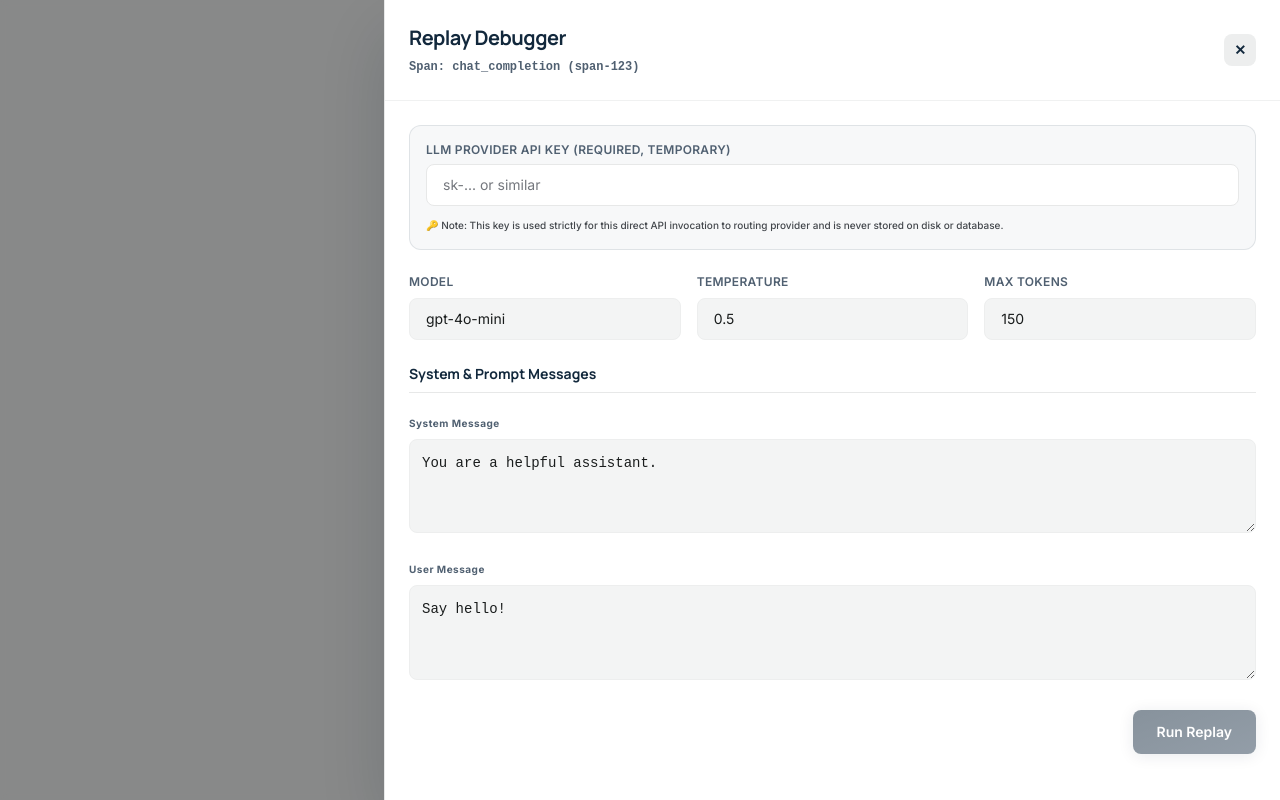
Test: ReplayPanel Component › renders the diff view with both original and replayed outputs on successful replay
Put in API key
In the password field with test id "provider-key-input": (832, 185) [426,164,1239,206], type "test-key-123"
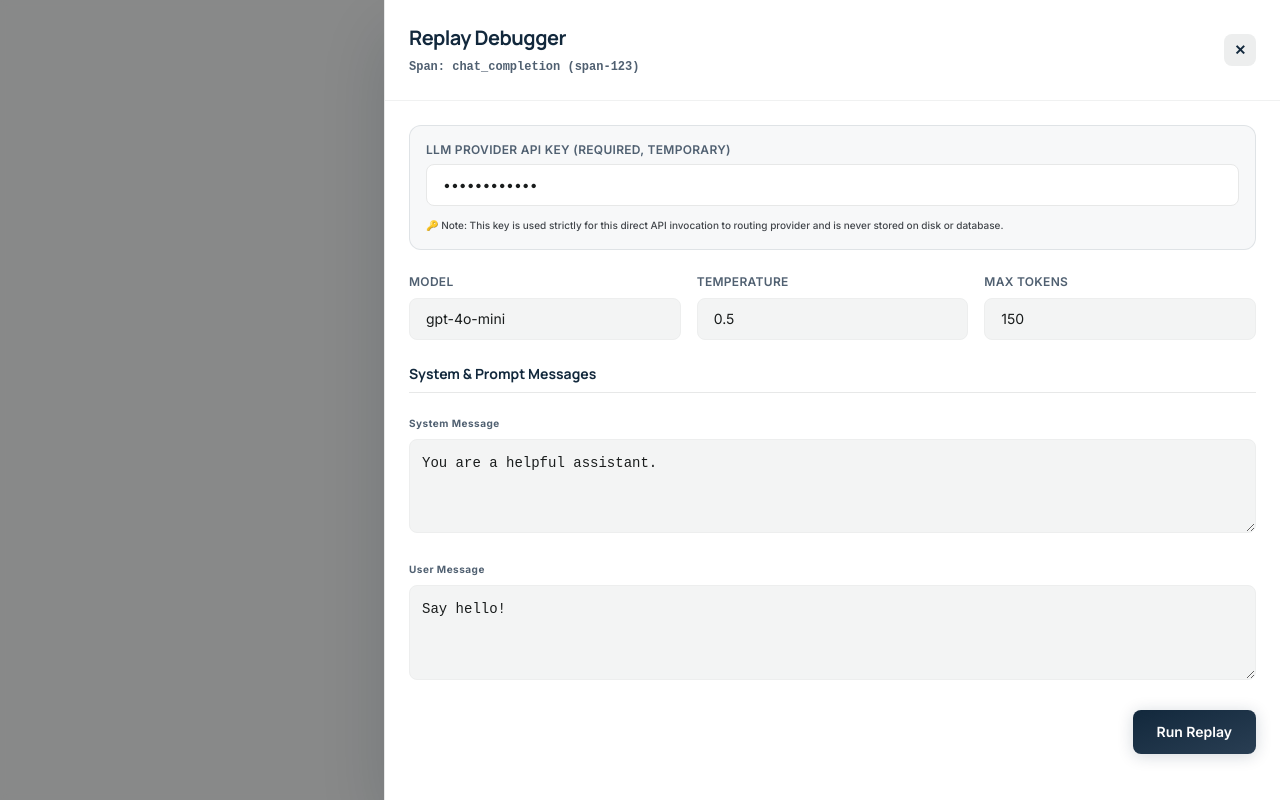
Click the button with test id "replay-submit-btn": (1194, 732) [1132,710,1256,754]
(page scrolled)
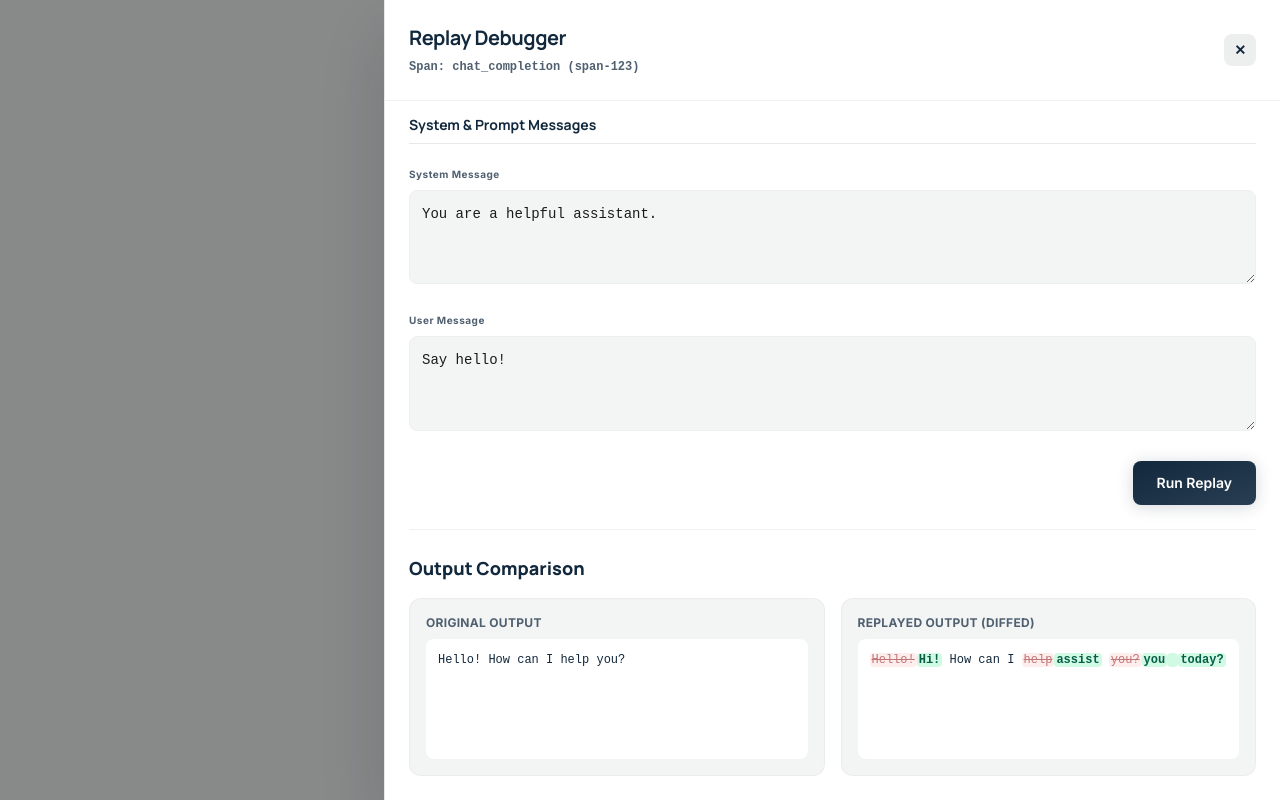
Now the element with test id "diff-view" is shown, box [409,528,1256,776]
Now the heading "Original Output" is shown, box [426,614,542,630]
Now the heading "Replayed Output (Diffed)" is shown, box [858,614,1035,630]
